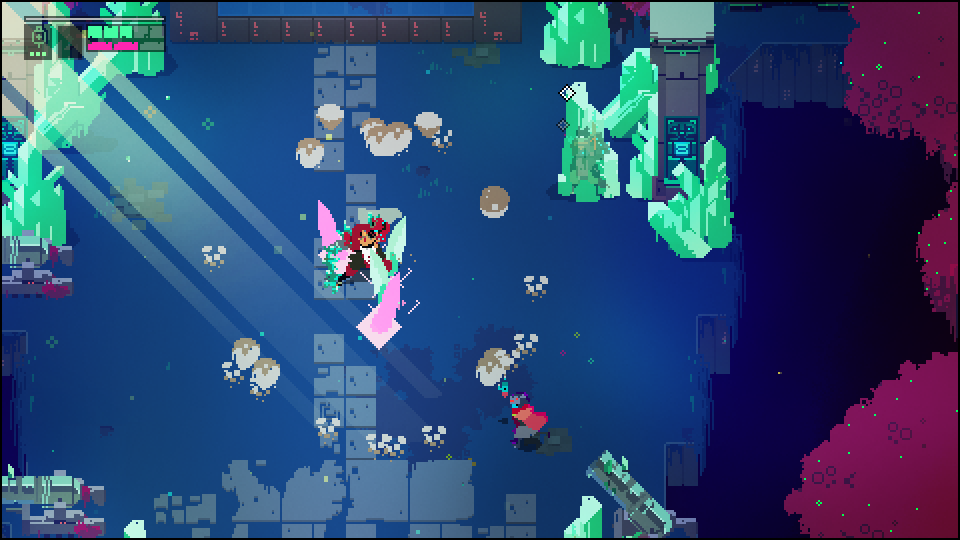hanged_crys: (364, 274, 405, 343), (310, 199, 339, 256)
hanged_man: (322, 216, 396, 291)
player: (508, 393, 548, 452)
